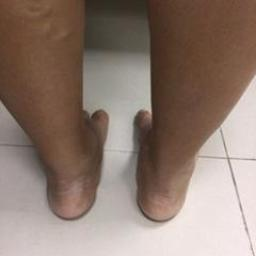Back View -Both Feet-: (11, 92, 230, 234)
